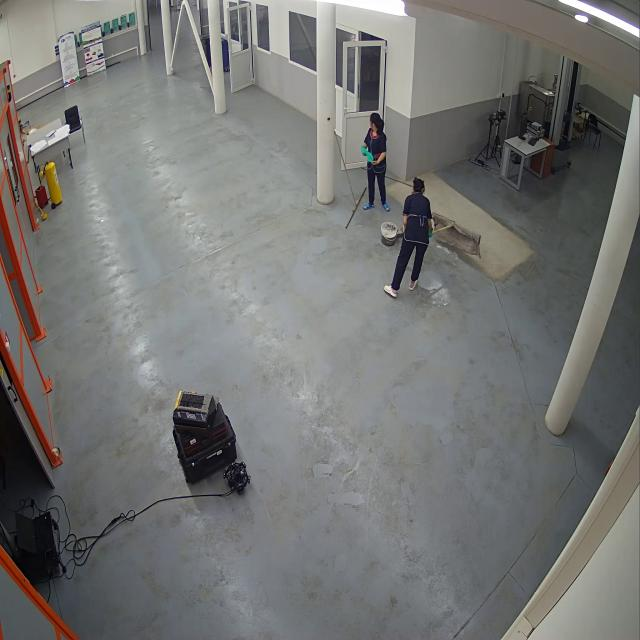NO-Hardhat: (412, 176, 426, 186), (370, 112, 380, 122)
Person: (382, 172, 435, 303), (355, 106, 395, 212)
